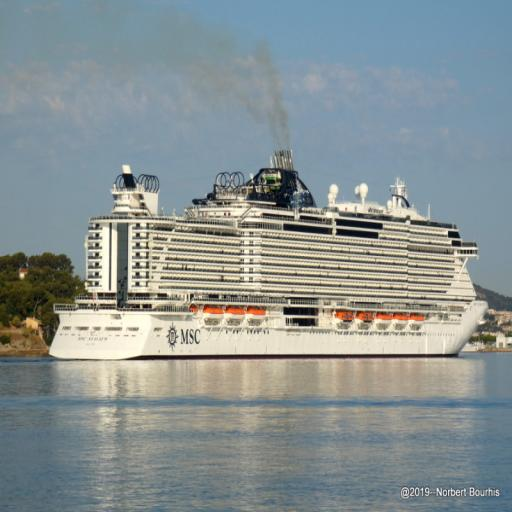cruises: (44, 146, 490, 366)
